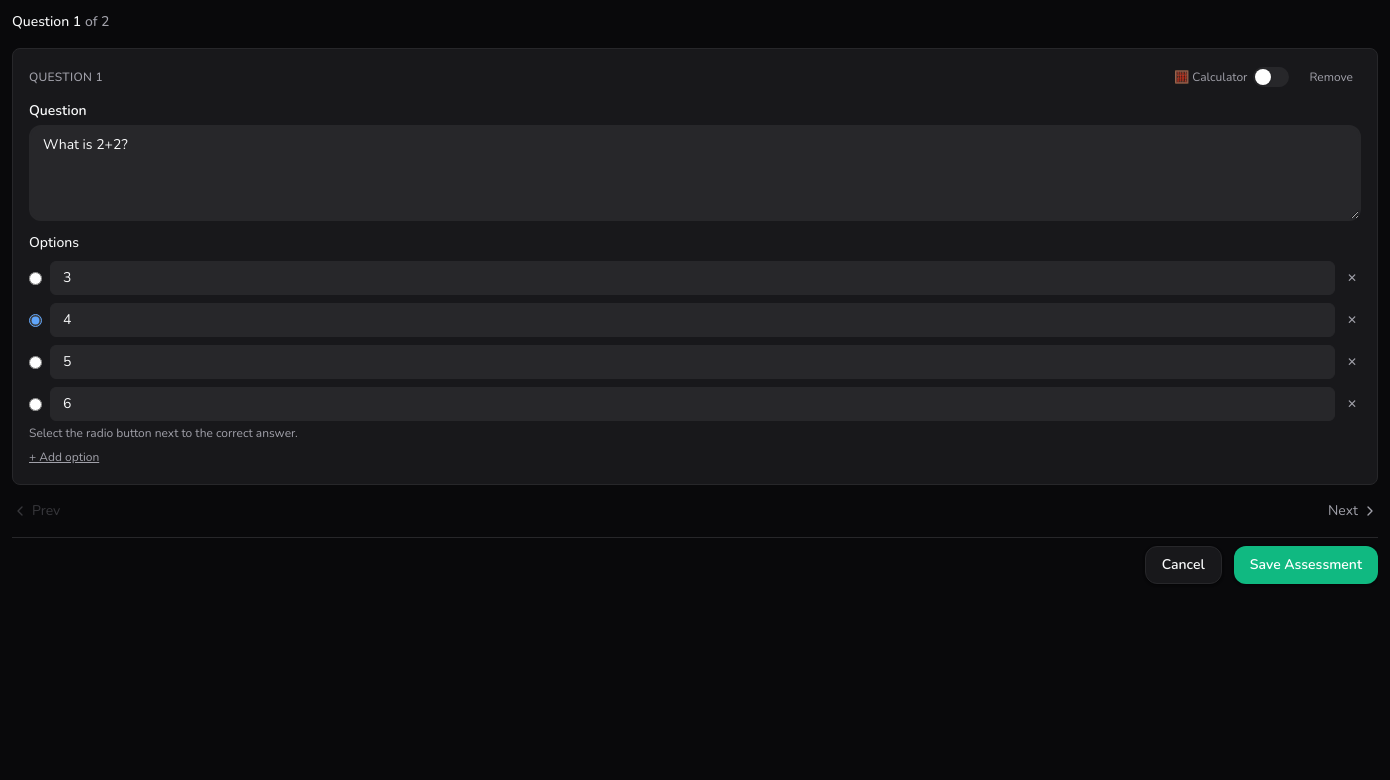
Test: AssessmentForm › navigates to next question when Next is clicked
The width and height of the screenshot is (1390, 780).
Click the button "Next".
click(1353, 511)  # box x1=1328 y1=501 x2=1378 y2=521
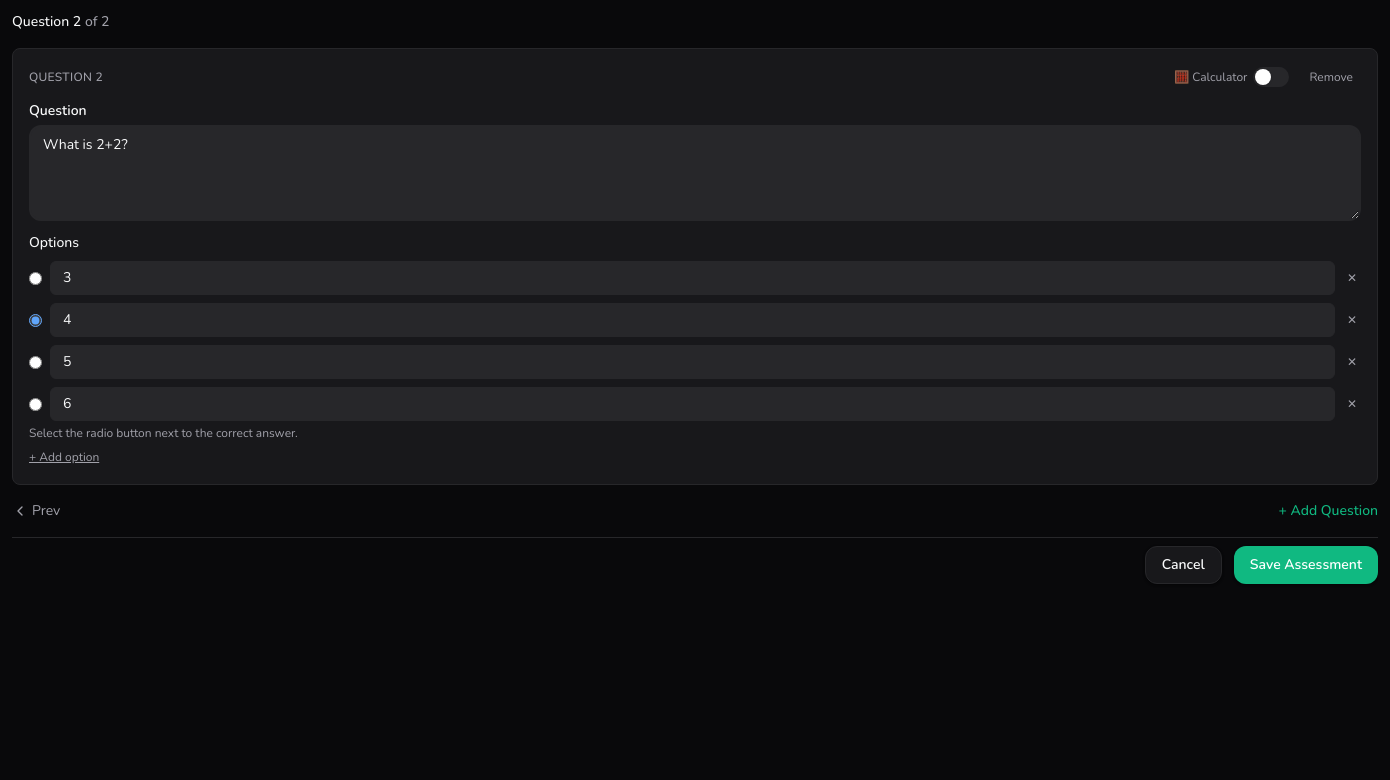
Check: the button "Prev" is enabled, box x1=12 y1=501 x2=60 y2=521
Check: the button "+ Add Question" is shown, box x1=1278 y1=501 x2=1378 y2=521
